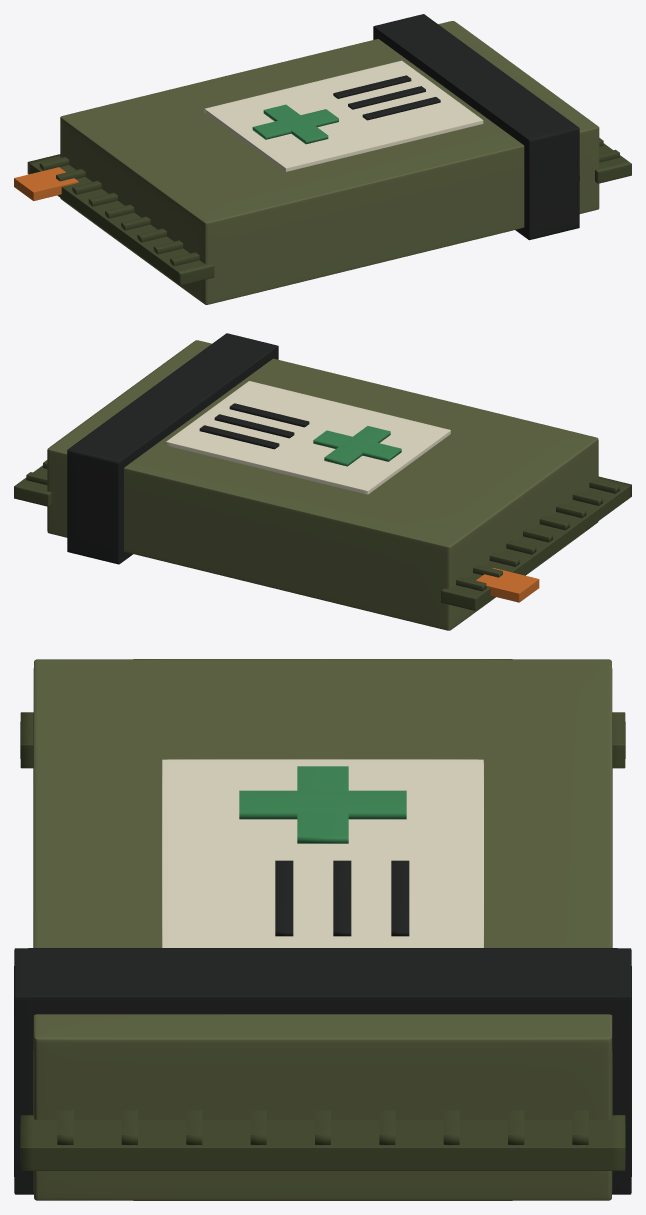
Rendered from field_dressing.glb.
3 renders of one model, top to bottom at view 1: azimuth 30°, elevation 25°; view 2: azimuth 150°, elevation 25°; view 3: azimuth 270°, elevation 25°, orthographic. The views are drawn at different scales.
Parts seen in each view (by area): view 1: Cube, Cube.027, Cube.021, Cube.001, Cube.028, Cube.023, Cube.022, Cube.011, Cube.024, Cube.026, Cube.025; view 2: Cube, Cube.027, Cube.021, Cube.001, Cube.028, Cube.023, Cube.022, Cube.011, Cube.024, Cube.025, Cube.026; view 3: Cube, Cube.021, Cube.027, Cube.011, Cube.023, Cube.022, Cube.001, Cube.024, Cube.025, Cube.026.
Part boxes in pixels (x1,y1,x2,y2): Cube: [60, 21, 599, 304]; Cube.027: [373, 14, 579, 240]; Cube.021: [204, 60, 483, 171]; Cube.001: [27, 154, 214, 285]; Cube.028: [14, 167, 78, 200]; Cube.023: [263, 104, 328, 144]; Cube.022: [252, 109, 338, 139]; Cube.011: [595, 143, 631, 183]; Cube.024: [333, 75, 411, 98]; Cube.026: [362, 97, 440, 120]; Cube.025: [348, 86, 425, 109]; Cube: [47, 340, 598, 630]; Cube.027: [67, 333, 278, 564]; Cube.021: [166, 381, 450, 494]; Cube.001: [441, 476, 631, 610]; Cube.028: [476, 568, 539, 602]; Cube.023: [324, 426, 390, 466]; Cube.022: [313, 430, 401, 461]; Cube.011: [14, 465, 51, 506]; Cube.024: [199, 425, 279, 449]; Cube.025: [214, 414, 294, 438]; Cube.026: [229, 403, 309, 427]; Cube: [33, 659, 612, 1200]; Cube.021: [162, 759, 483, 947]; Cube.027: [14, 948, 631, 1194]; Cube.011: [20, 1115, 625, 1170]; Cube.023: [239, 790, 406, 819]; Cube.022: [297, 766, 348, 843]; Cube.001: [20, 712, 625, 768]; Cube.024: [391, 860, 409, 936]; Cube.025: [333, 860, 351, 936]; Cube.026: [275, 860, 293, 936].
Bounding box in the file's own units: 0.17 × 0.034 × 0.096.
